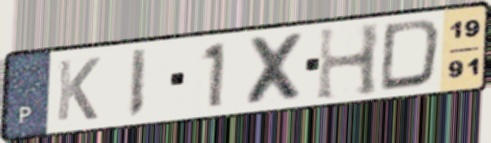1: (197, 39, 228, 111)
D: (376, 16, 445, 93)
H: (314, 21, 384, 104)
I: (125, 46, 149, 121)
K: (53, 55, 103, 124)
X: (243, 30, 309, 108)
